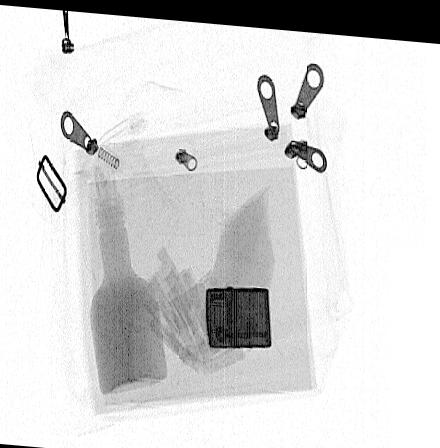Lighter: (206, 281, 272, 344)
